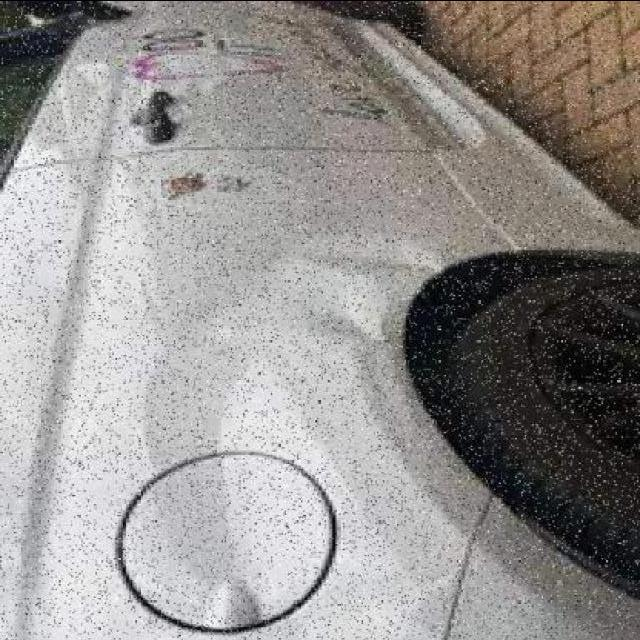quaterpanel-dent: (0, 163, 483, 640)
